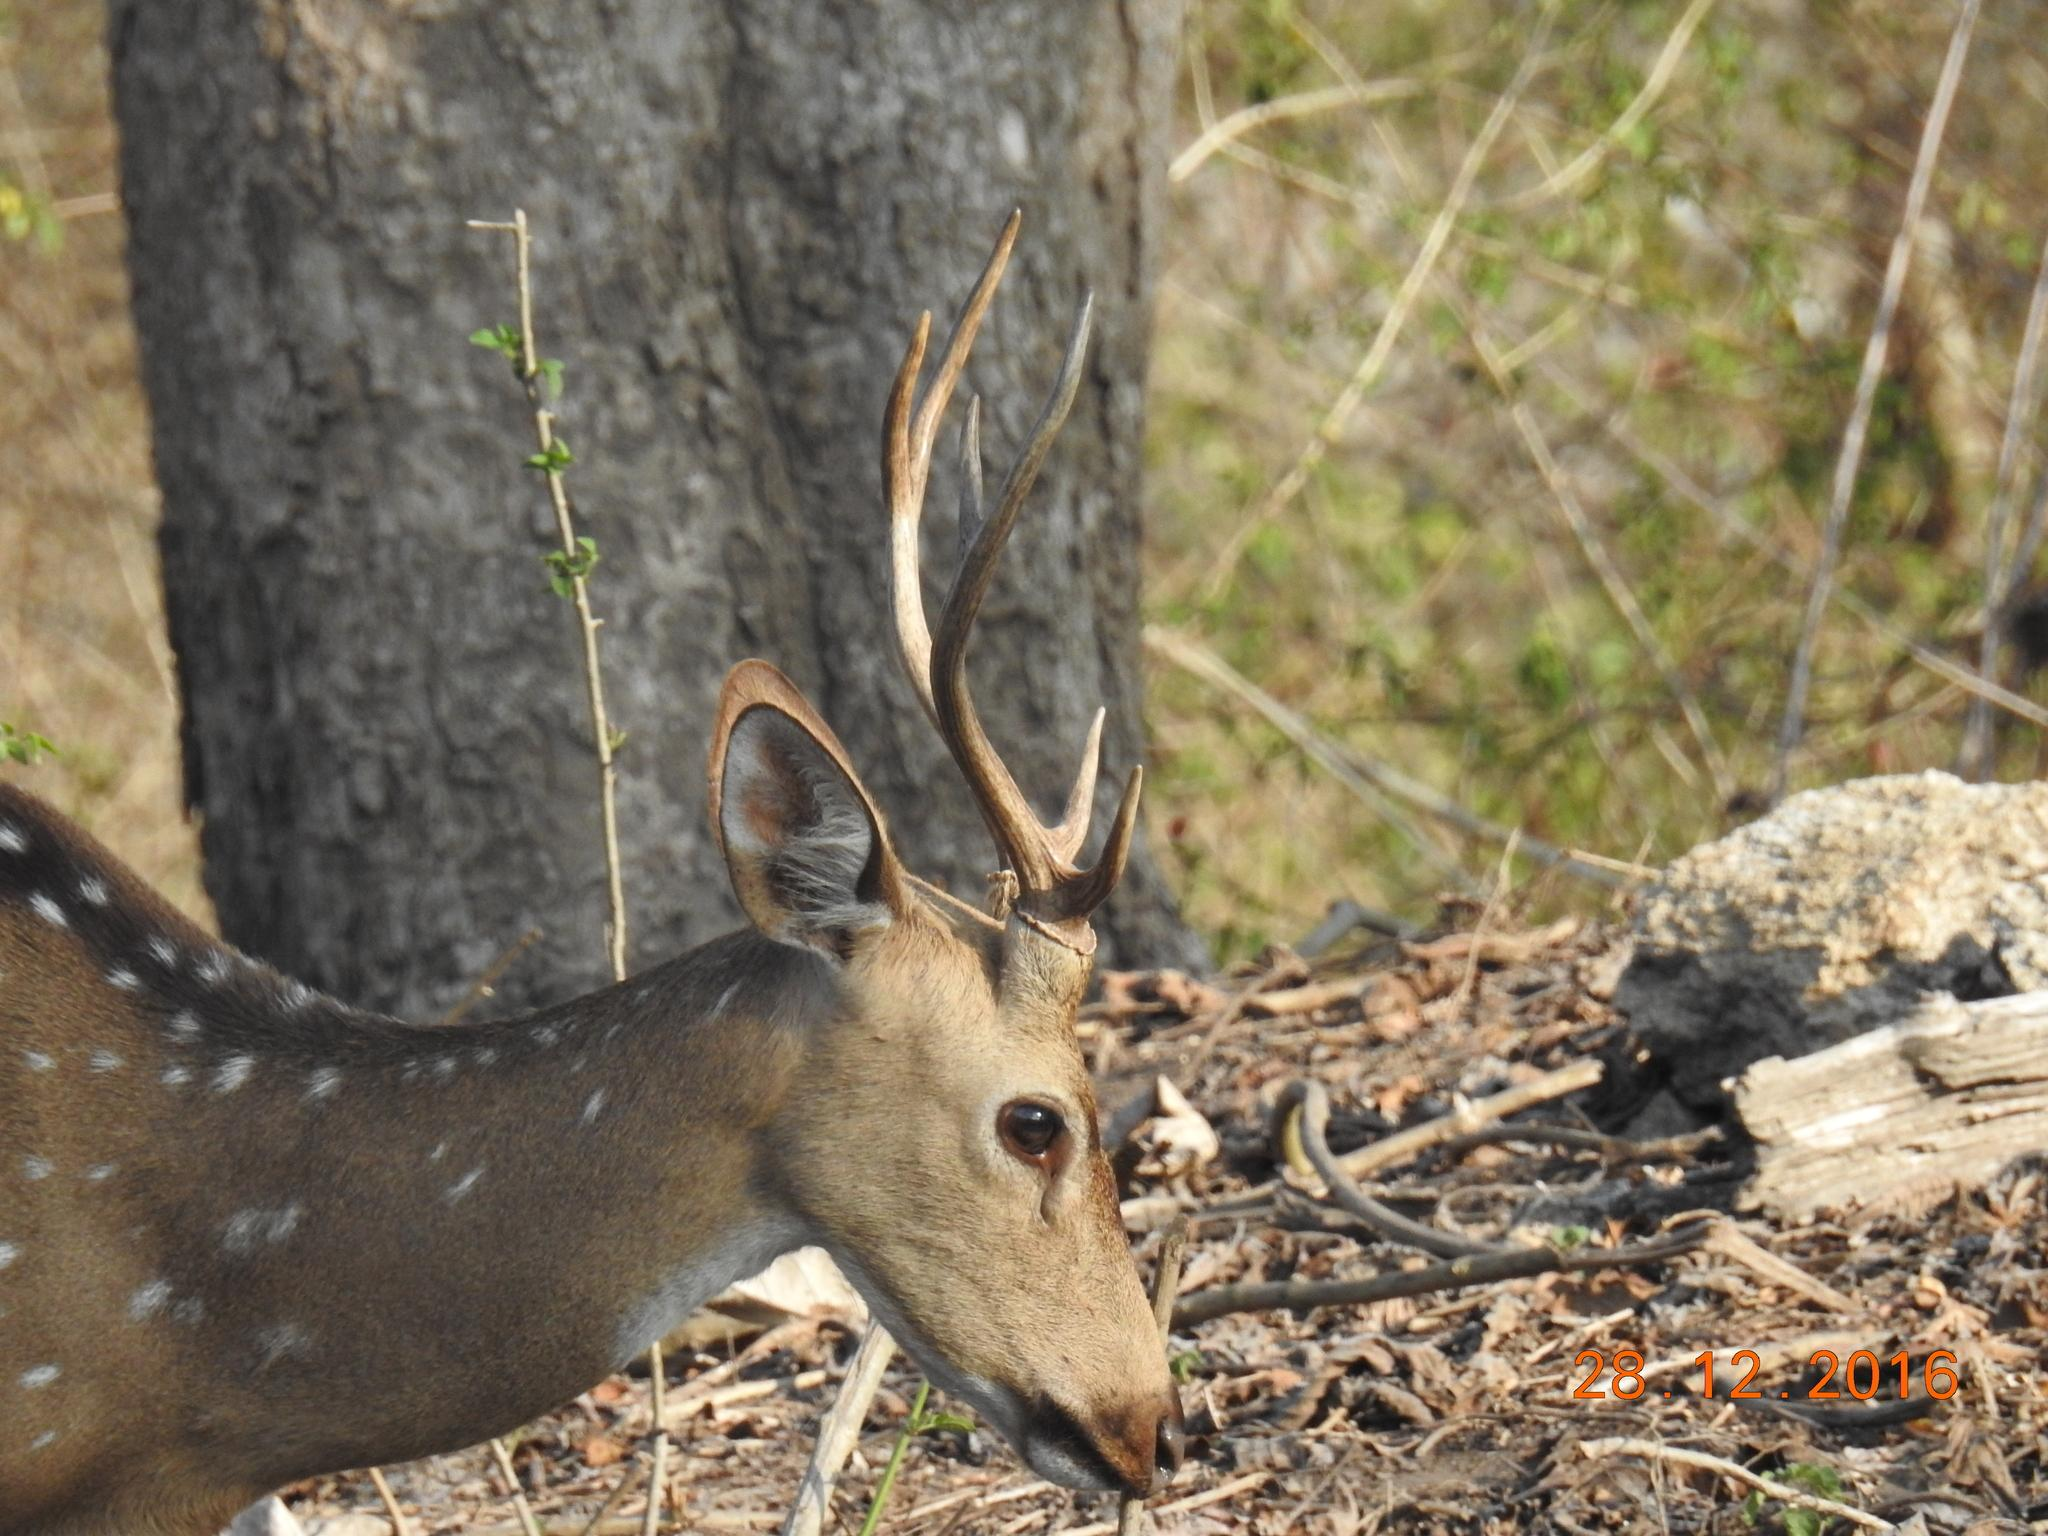Deer: (0, 215, 1172, 1530)
